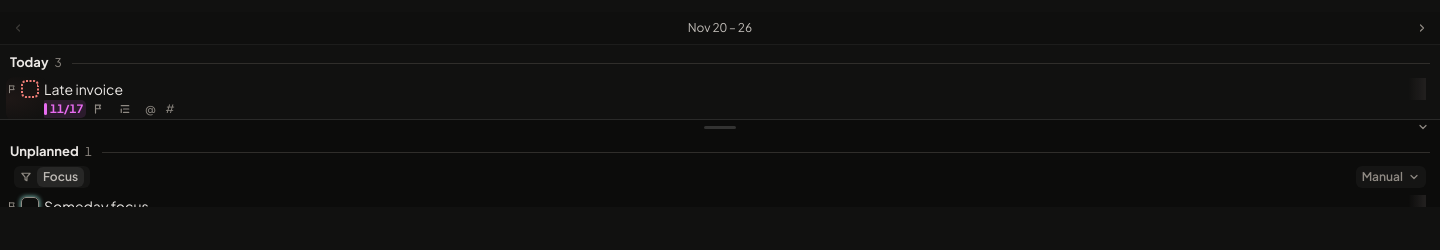
the Planner — medium and small › too narrow for its tiles’ ticks, with no top line: the strip is the slim range row, the arrows around the range
The image size is (1440, 250).
Expected: the element named "Days" reads "Nov 20 – 26", [688,20,752,35]
Click the button named "Next week" at (1422, 28), box [1410,16,1434,40]
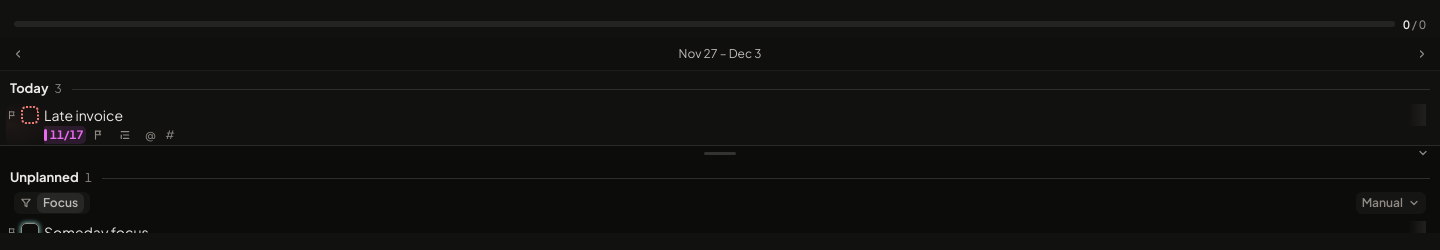
Result: the element named "Days" reads "Nov 27 – Dec 3" at [679,46,761,61]
